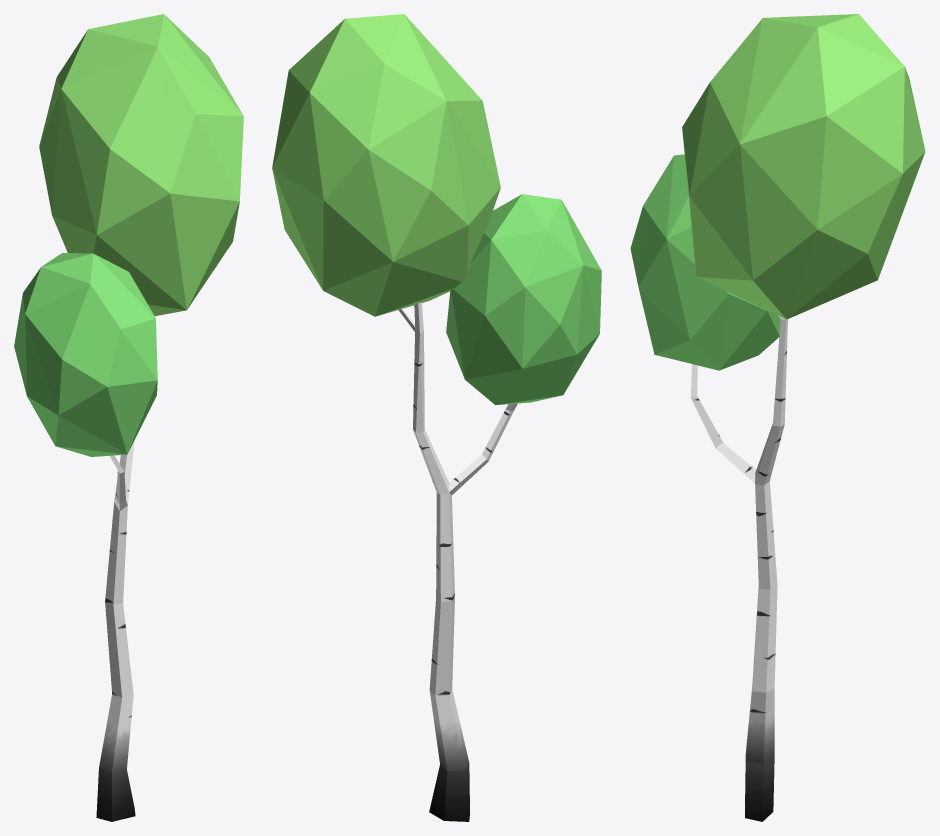
Rendered from Birch_Tree_l_03_LOD.fbx.
3 views of the same model, side by side, from view 1: azimuth 30°, elevation 25°; view 2: azimuth 150°, elevation 25°; view 3: azimuth 270°, elevation 25° (orthographic). The views are drawn at different scales.
Visible parts, largest first — view 1: Birch_Tree_l_03_LOD0; view 2: Birch_Tree_l_03_LOD0; view 3: Birch_Tree_l_03_LOD0.
Part boxes in pixels (x1=…): Birch_Tree_l_03_LOD0: x1=14, y1=14, x2=243, y2=821; Birch_Tree_l_03_LOD0: x1=272, y1=14, x2=601, y2=821; Birch_Tree_l_03_LOD0: x1=630, y1=14, x2=925, y2=821.
Size of what is drawn, in the model's own units: 530 by 1611 by 523.
